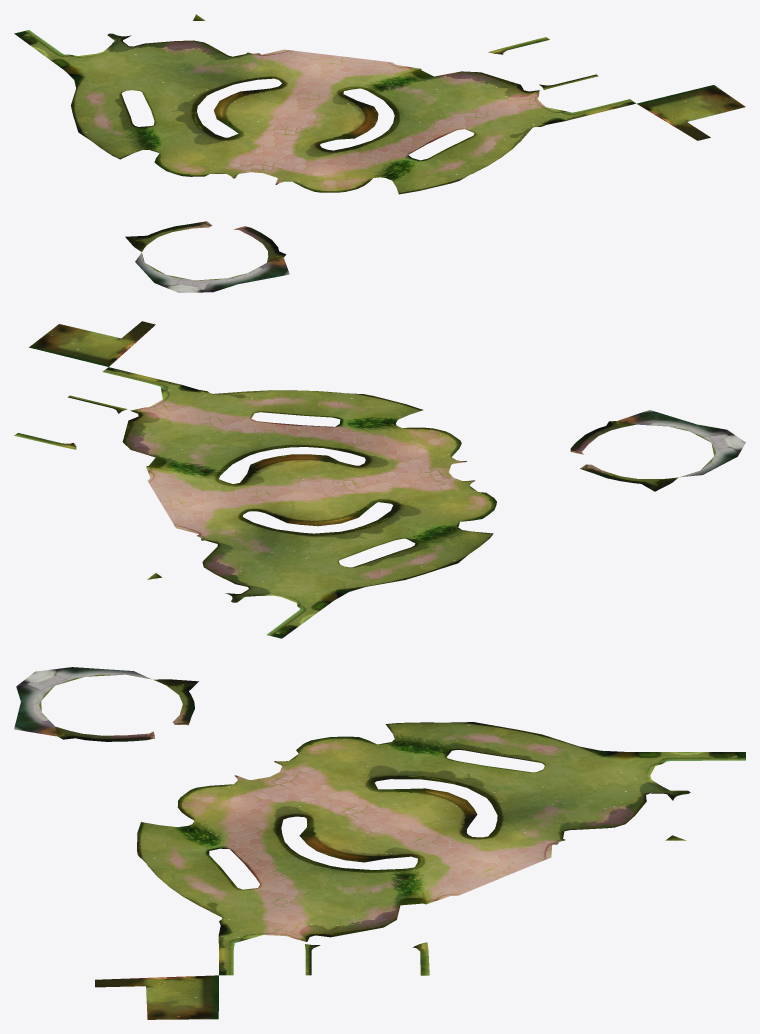
File: pref_sm_garden_terrain_04_lv2.fbx
The picture shows the model from 3 angles, top to bottom: view 1: azimuth 30°, elevation 25°; view 2: azimuth 150°, elevation 25°; view 3: azimuth 270°, elevation 25°; orthographic projection. The views are drawn at different scales.
Parts seen in each view (by area): view 1: pref_sm_garden_terrain_04_lv2; view 2: pref_sm_garden_terrain_04_lv2; view 3: pref_sm_garden_terrain_04_lv2.
Boxes of the visible parts, x1,y1,x2,y2 form: pref_sm_garden_terrain_04_lv2: (14,14,745,292); pref_sm_garden_terrain_04_lv2: (14,321,745,638); pref_sm_garden_terrain_04_lv2: (14,667,745,1019).
Size of the model in its own units: 63.8 by 0.000267 by 55.94.
